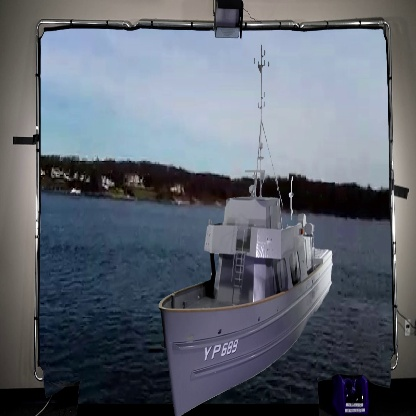YP689: (158, 42, 334, 410)
